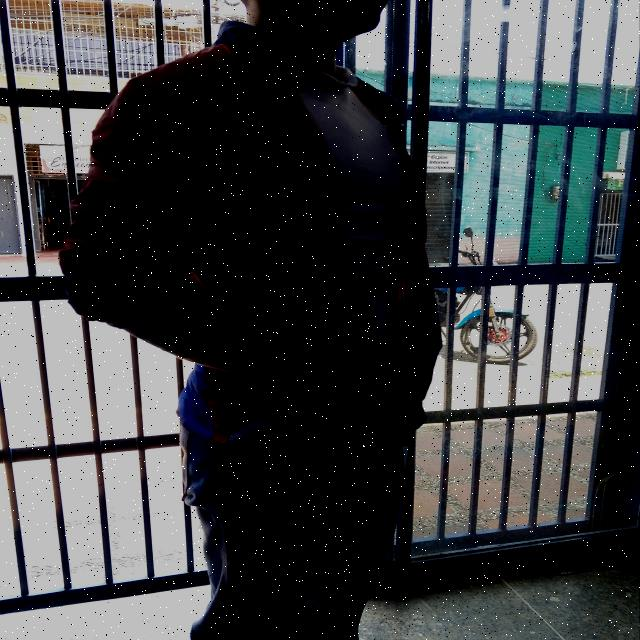chaqueta_unefa: (56, 19, 445, 464)
